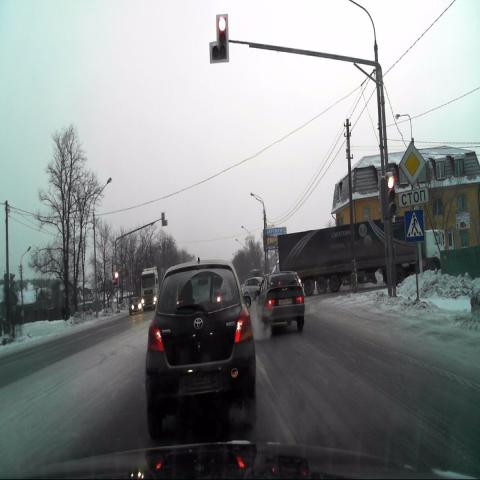2_1: (399, 142, 425, 186)
5_19_1: (404, 210, 424, 243)
6_16: (399, 187, 429, 207)
